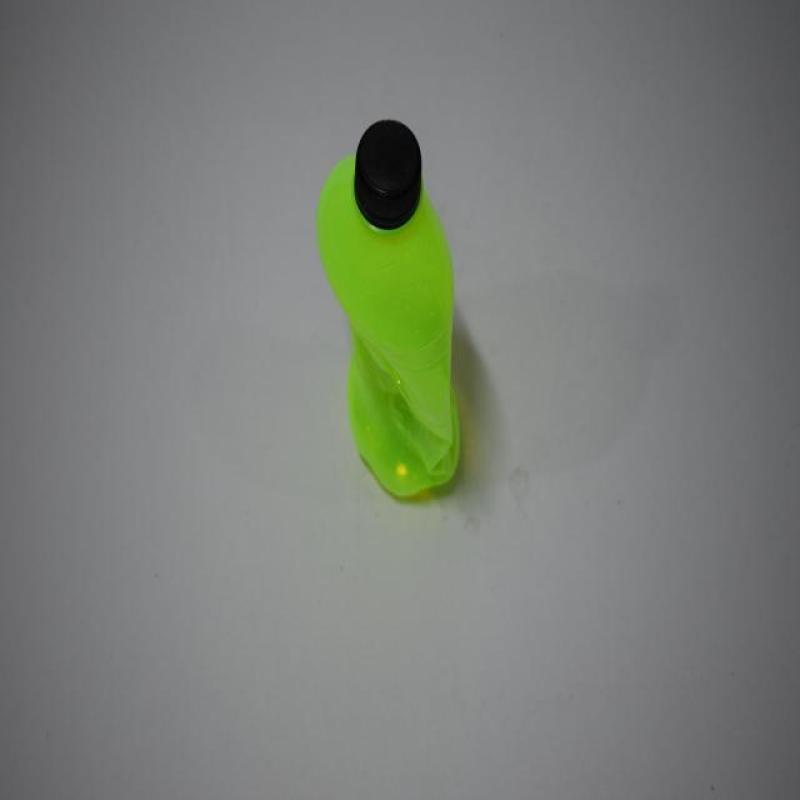botella: (312, 119, 463, 502)
